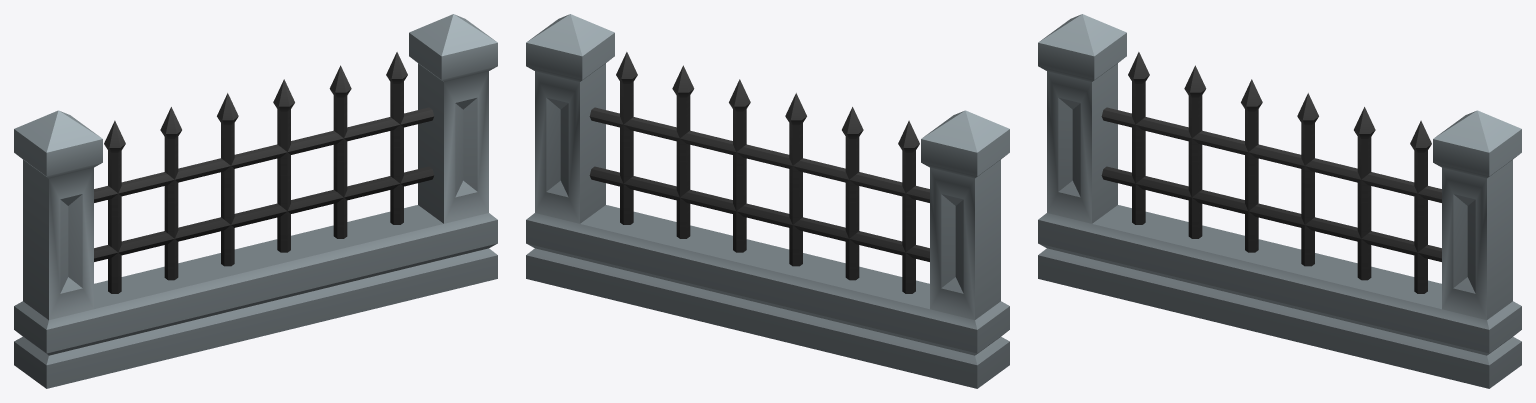
File: fence.glb
The picture shows the model from 3 angles, left to right: view 1: azimuth 30°, elevation 25°; view 2: azimuth 150°, elevation 25°; view 3: azimuth 330°, elevation 25°; orthographic projection.
Visible parts, largest first — view 1: fence; view 2: fence; view 3: fence.
Boxes of the visible parts, x1,y1,x2,y2 form: fence: (14,14,497,388); fence: (526,14,1009,388); fence: (1038,14,1521,388).
Bounding box in the file's own units: 4 × 2.2 × 0.5.
1 material, 1 textured.
